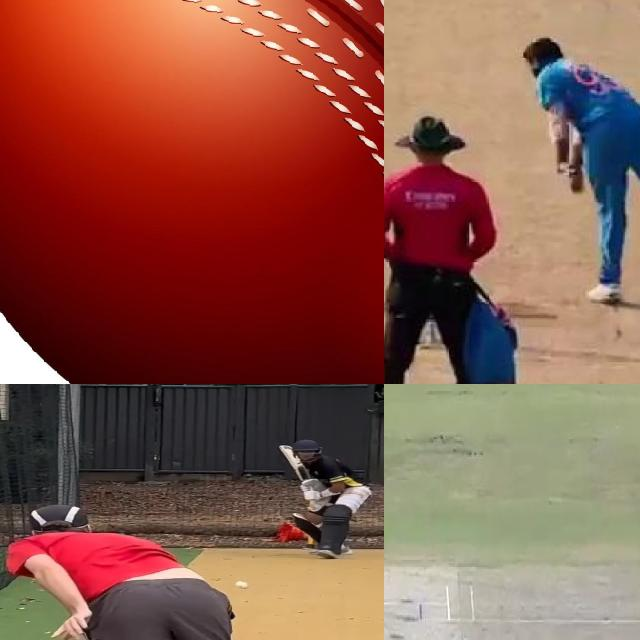Cricket ball: (0, 0, 384, 384), (236, 580, 250, 589)
